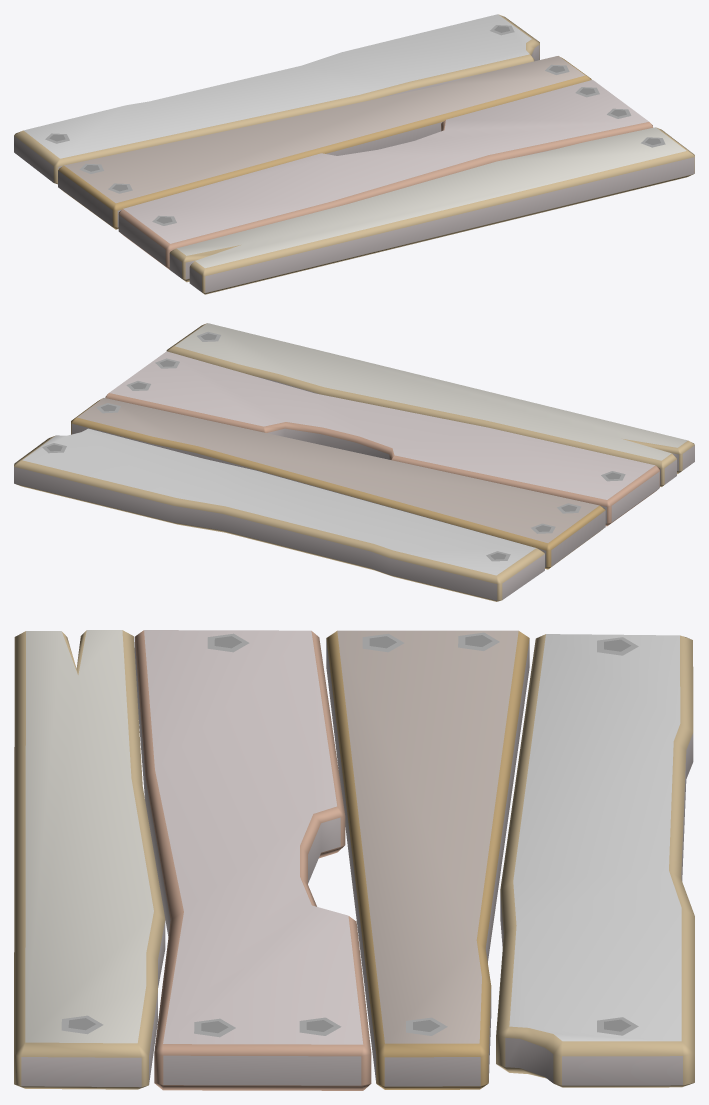
Rendered from Planksquare.glb.
3 renders of one model, top to bottom at view 1: azimuth 30°, elevation 25°; view 2: azimuth 150°, elevation 25°; view 3: azimuth 270°, elevation 25°, orthographic. The views are drawn at different scales.
Parts seen in each view (by area): view 1: Planksquare; view 2: Planksquare; view 3: Planksquare.
Part boxes in pixels (x1,y1,x2,y2): Planksquare: [14, 14, 694, 294]; Planksquare: [14, 323, 694, 601]; Planksquare: [14, 630, 694, 1090].
Bounding box in the file's own units: 2.23 × 0.1223 × 1.52.
